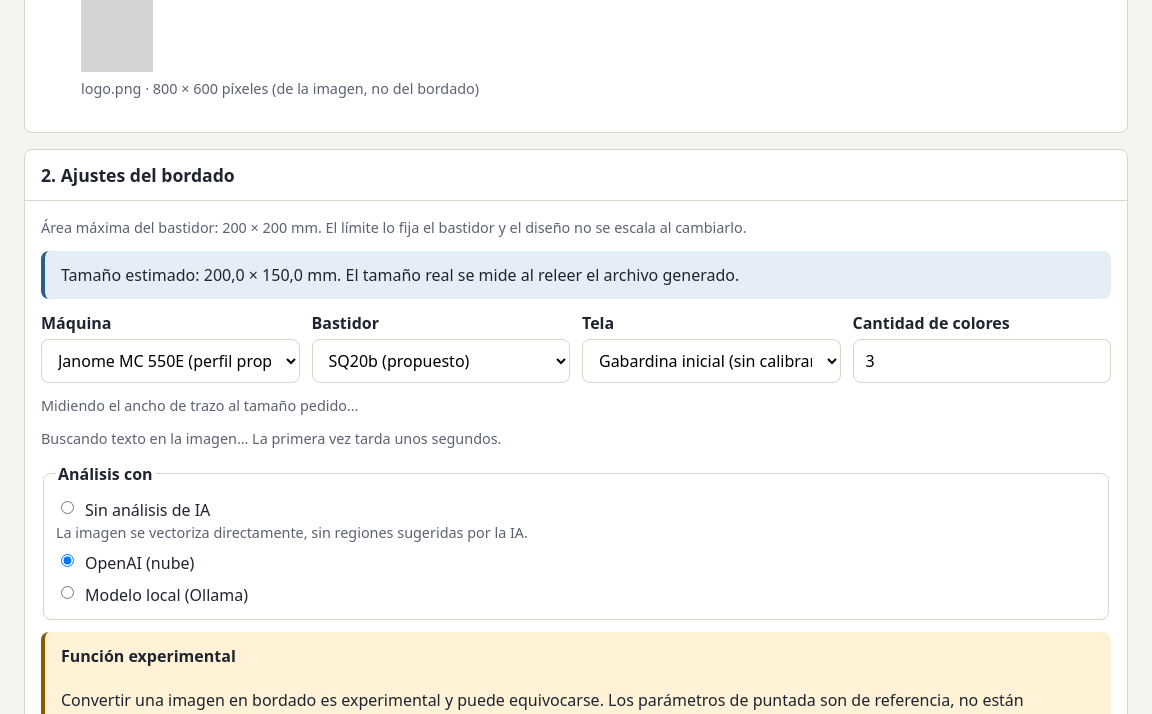
Test: recorrido principal (cliente SIMULADO) › arma el bastidor desde el catálogo y avisa si el área lo excede
Earlier steps of the test are not shown.
(page scrolled)
Select "Bastidor chico (SIMULADO)" in the dropdown labelled "Bastidor" at [441, 361], box [312,339,570,383]
(page scrolled)
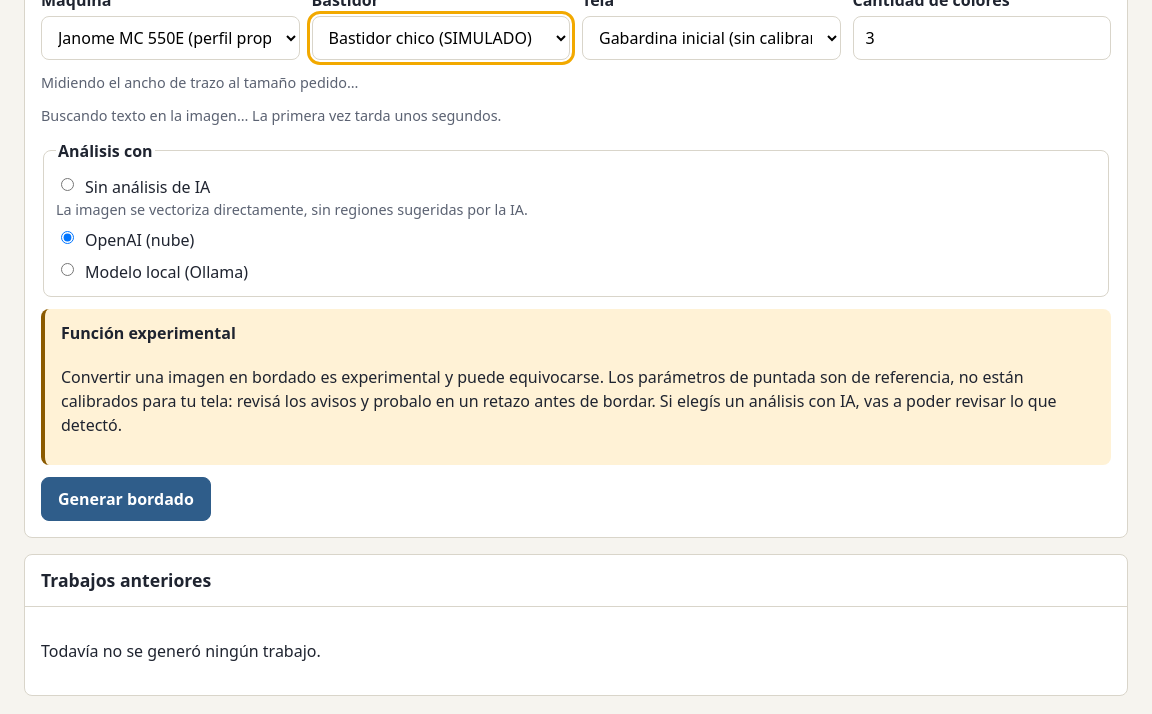
Click the button "Generar bordado" at [126, 500], box [41,478,211,522]
(page scrolled)
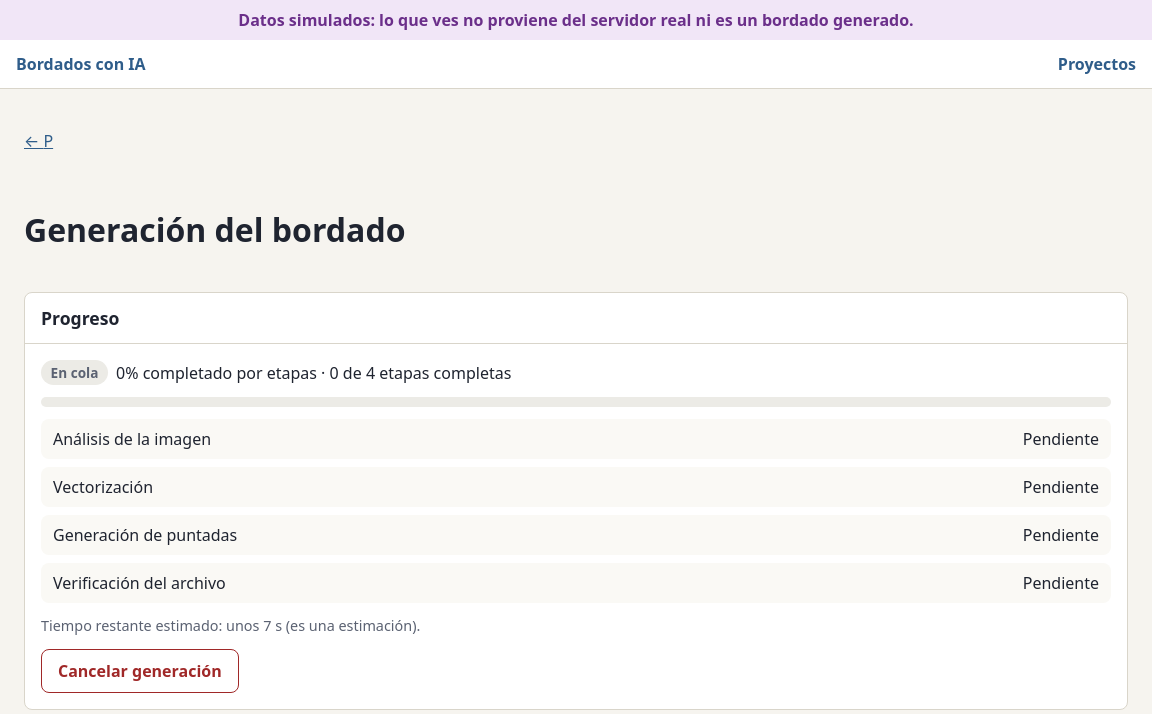
Now the heading "Generación del bordado" is shown, box [24,208,406,251]
